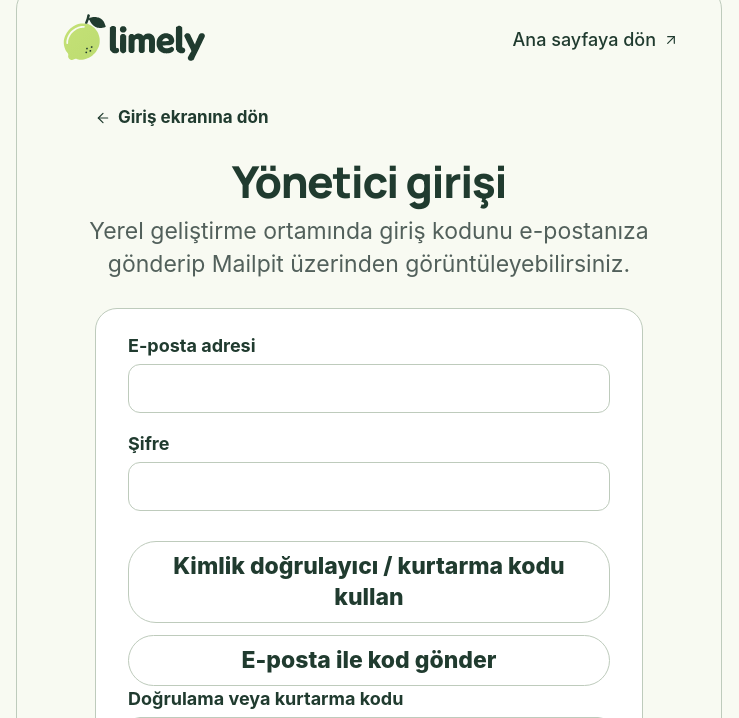
Scenario: dietitian application and administrator verification › does not claim delivery or retry a failed email-code request (409)
The width and height of the screenshot is (739, 718).
Type "admin@example.test" into the field labelled "E-posta adresi" at point(369, 388), box [128, 364, 610, 413]
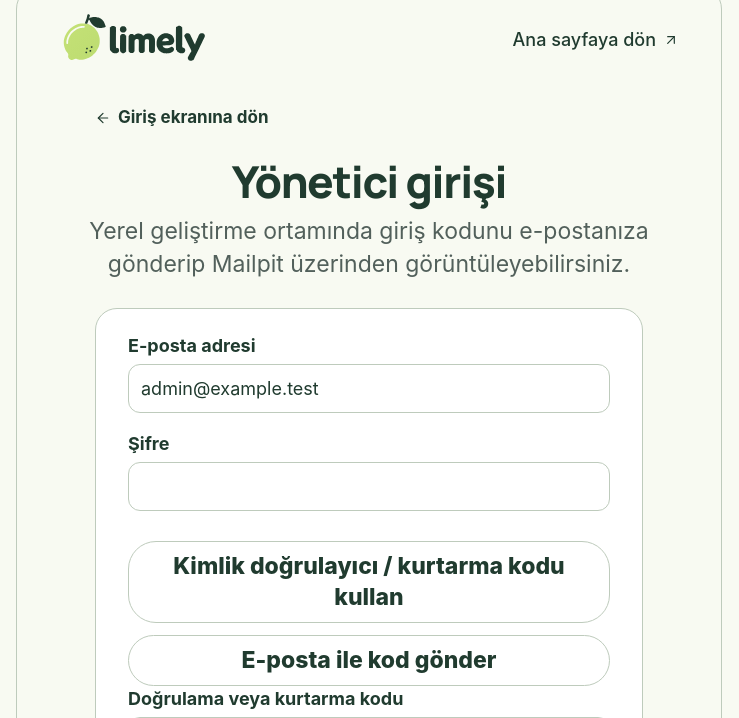
Type "synthetic password" into the password field labelled "Şifre" at point(369, 487), box [128, 462, 610, 511]
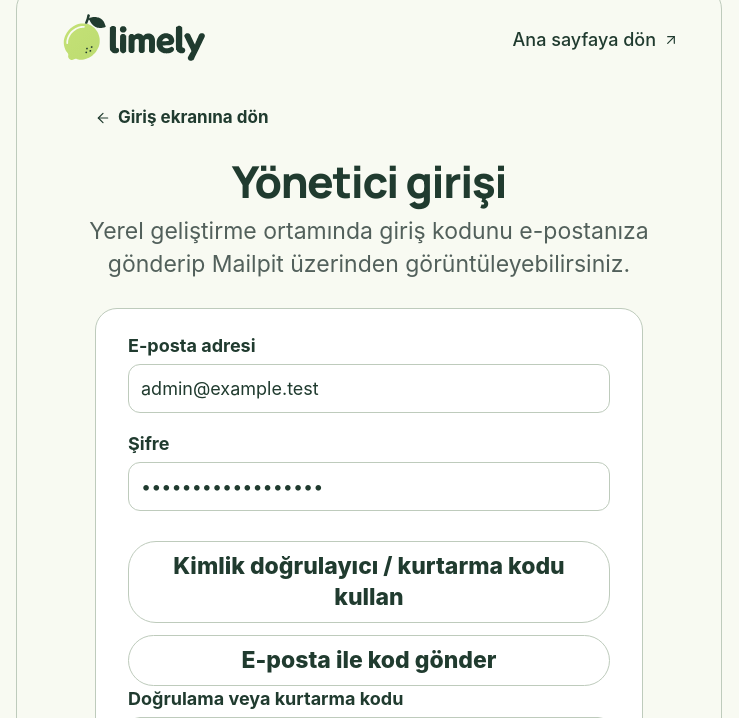
Click the button "E-posta ile kod gönder" at point(369, 661), box [128, 635, 610, 686]
(page scrolled)
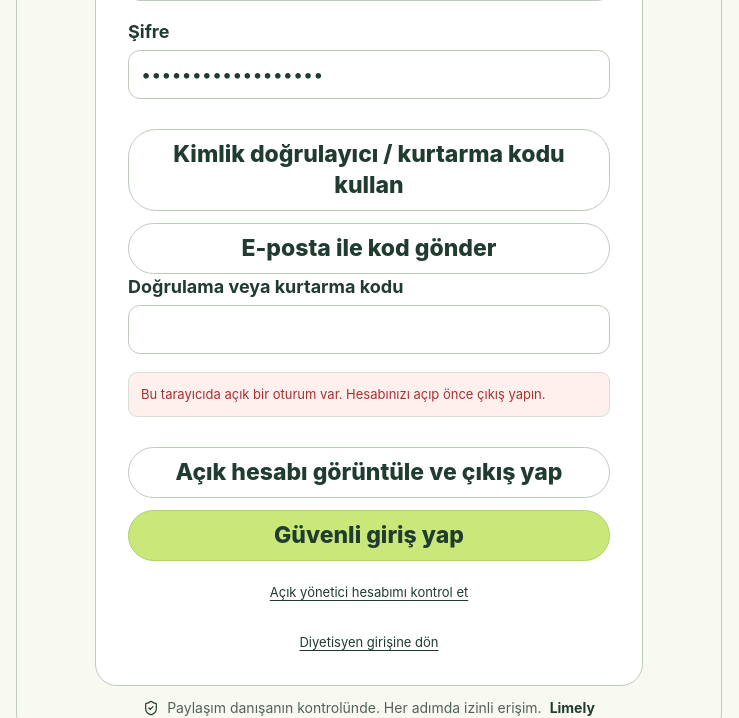
Now the message "Bu tarayıcıda açık bir oturum var. Hesabınızı açıp önce çıkış yapın." is shown, box [128, 372, 610, 417]
Now the link "Açık hesabı görüntüle ve çıkış yap" is shown, box [128, 447, 610, 498]
